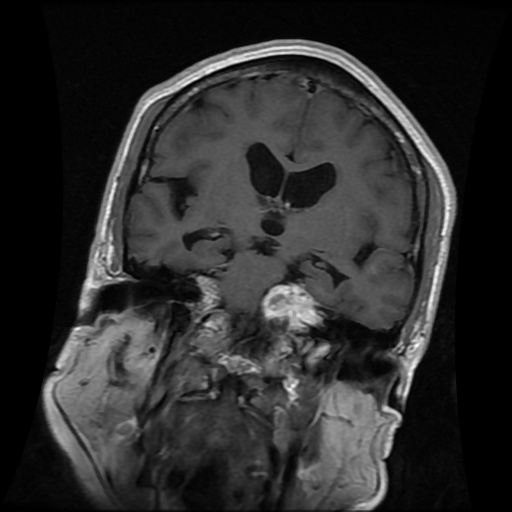meningioma: (265, 282, 324, 331)
